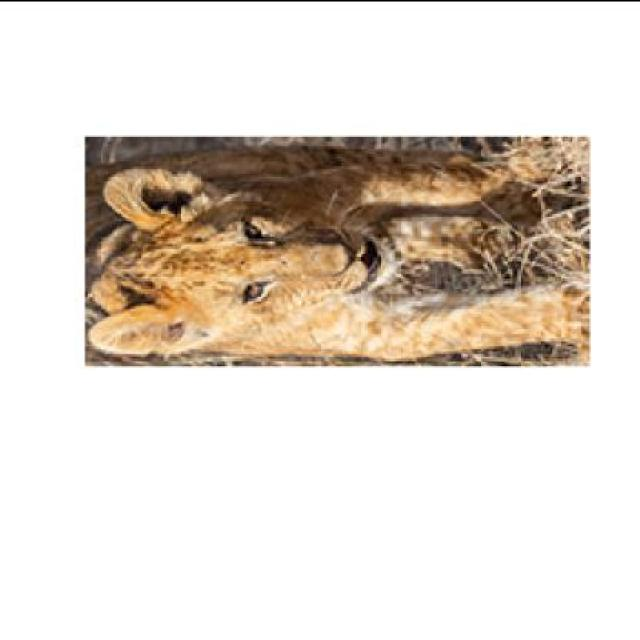Lion: (83, 156, 622, 364)
